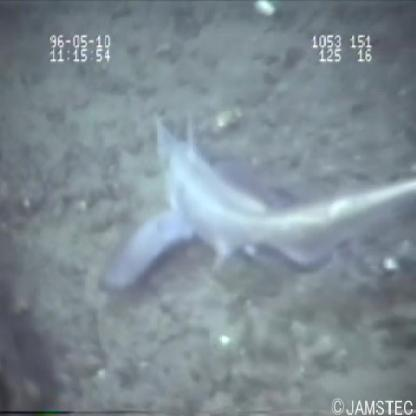Bio: (92, 109, 416, 301)
